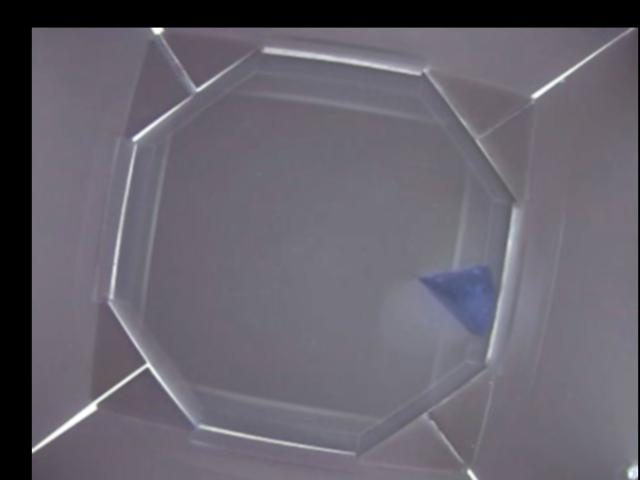Mooli: (422, 262, 491, 338)
